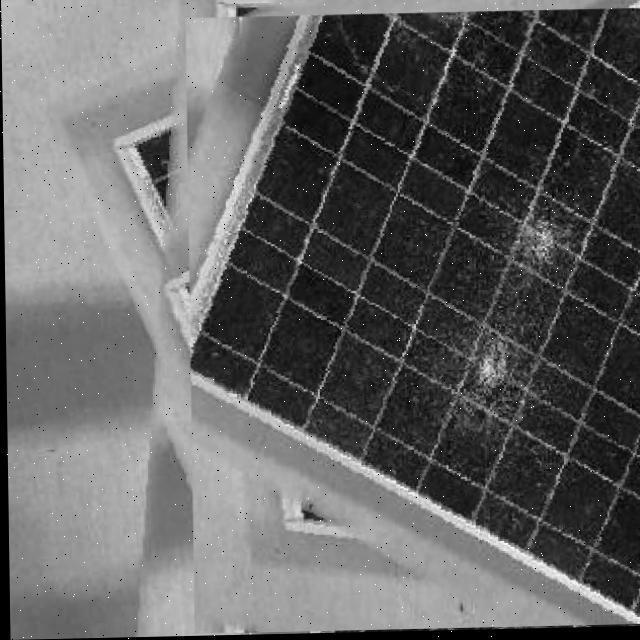Anomaly Solar Panel: (182, 13, 640, 627)
Structural Damage: (442, 299, 540, 448), (500, 183, 570, 281)
